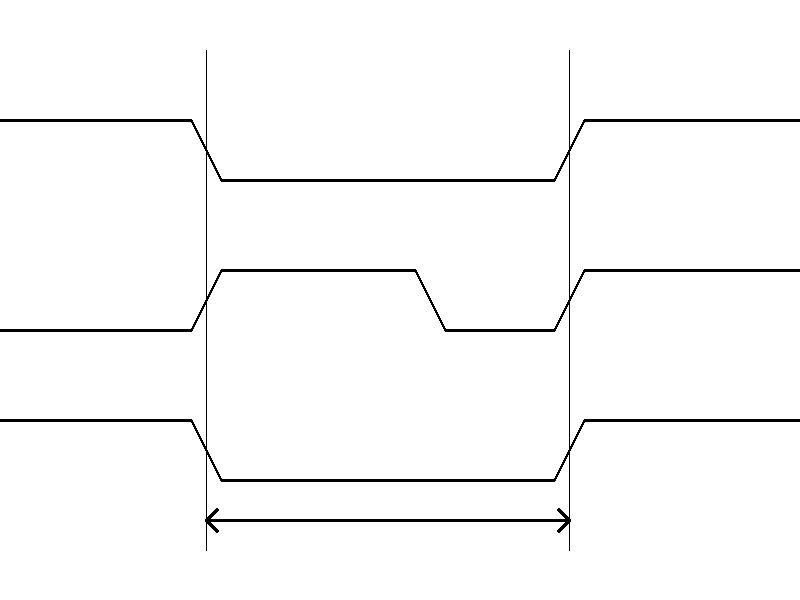double_arrow: (206, 505, 569, 535)
